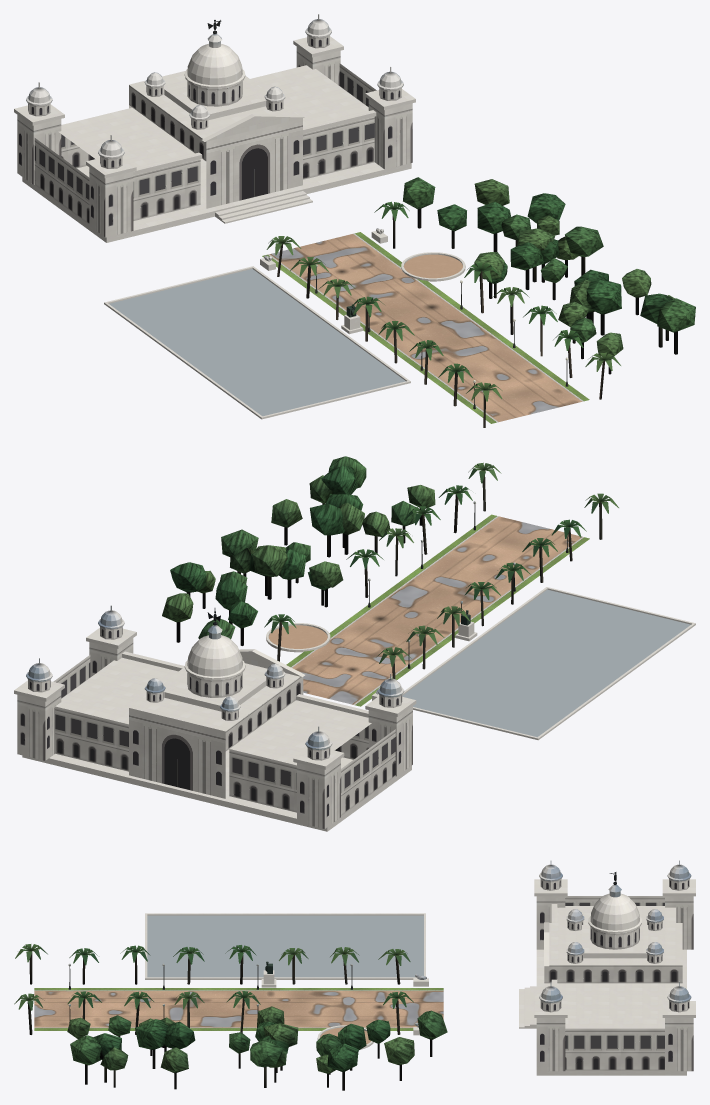
File: lugar-calcuta.glb
The picture shows the model from 3 angles, top to bottom: view 1: azimuth 30°, elevation 25°; view 2: azimuth 150°, elevation 25°; view 3: azimuth 270°, elevation 25°; orthographic projection. The views are drawn at different scales.
Visible parts, largest first — view 1: luzS-pista, vert-cerca, planoE; view 2: luzS-pista, vert-cerca, planoE; view 3: luzS-pista, vert-cerca, planoE.
Boxes of the visible parts, box(x1,y1,x2,y2) form: luzS-pista: box(14, 35, 589, 423); vert-cerca: box(26, 14, 695, 427); planoE: box(109, 269, 405, 416); luzS-pista: box(14, 514, 695, 831); vert-cerca: box(26, 456, 618, 749); planoE: box(402, 589, 690, 737); luzS-pista: box(34, 879, 695, 1075); vert-cerca: box(14, 860, 691, 1090); planoE: box(147, 915, 423, 977).
Size of what is drawn, in the model's own units: 76.53 by 28.04 by 123.
Materials: 9 (7 with a texture image).
